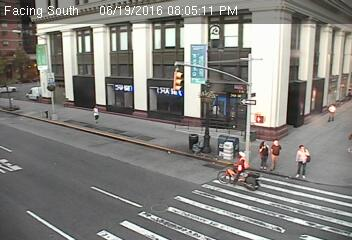neg: (225, 145, 258, 190), (193, 52, 214, 80), (34, 42, 53, 67), (55, 156, 73, 181), (160, 76, 177, 99), (283, 91, 300, 114), (216, 94, 233, 117), (137, 168, 154, 191), (111, 78, 128, 101), (16, 52, 32, 73), (25, 82, 41, 102), (105, 29, 120, 49), (215, 17, 227, 34), (41, 112, 53, 129), (304, 207, 316, 223), (253, 107, 264, 122), (12, 26, 23, 40)
pos: (289, 144, 316, 180), (264, 138, 289, 171), (254, 139, 275, 168), (326, 102, 341, 122), (89, 103, 103, 123)
